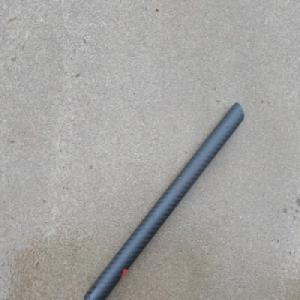LuggagePart: (82, 100, 244, 300)
